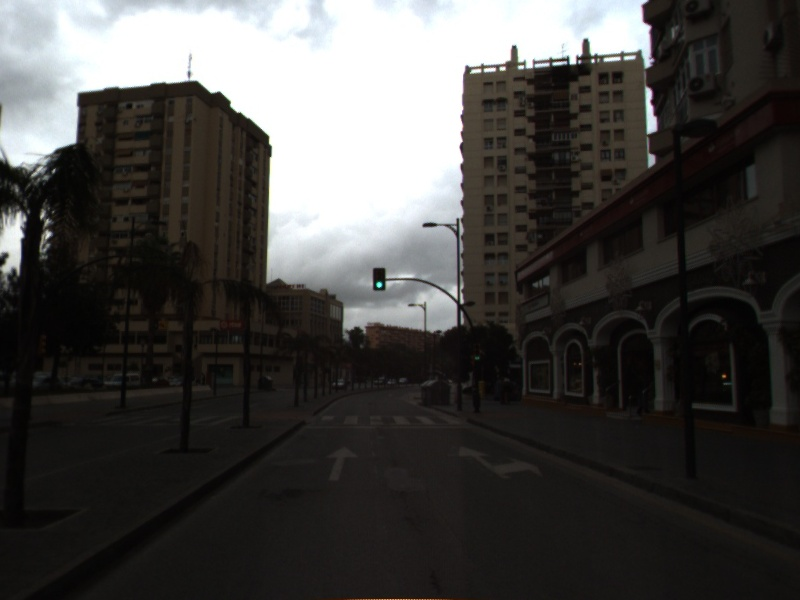STRAIGHT: (322, 443, 360, 483)
STRAIGHT_RIGHT: (456, 443, 546, 481)
